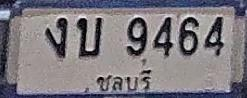4: (204, 16, 224, 56), (154, 17, 172, 56)
6: (178, 16, 199, 56)
9: (126, 17, 147, 56)
A07: (46, 17, 67, 58)
A26: (76, 17, 102, 57)
CBI: (90, 63, 154, 95)
